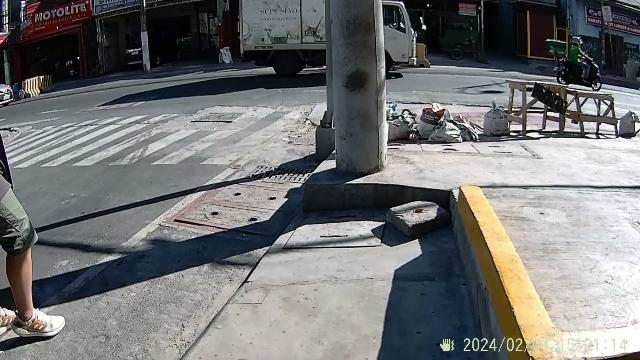construction_materials: (392, 98, 512, 146)
utility_post: (316, 0, 390, 174)
